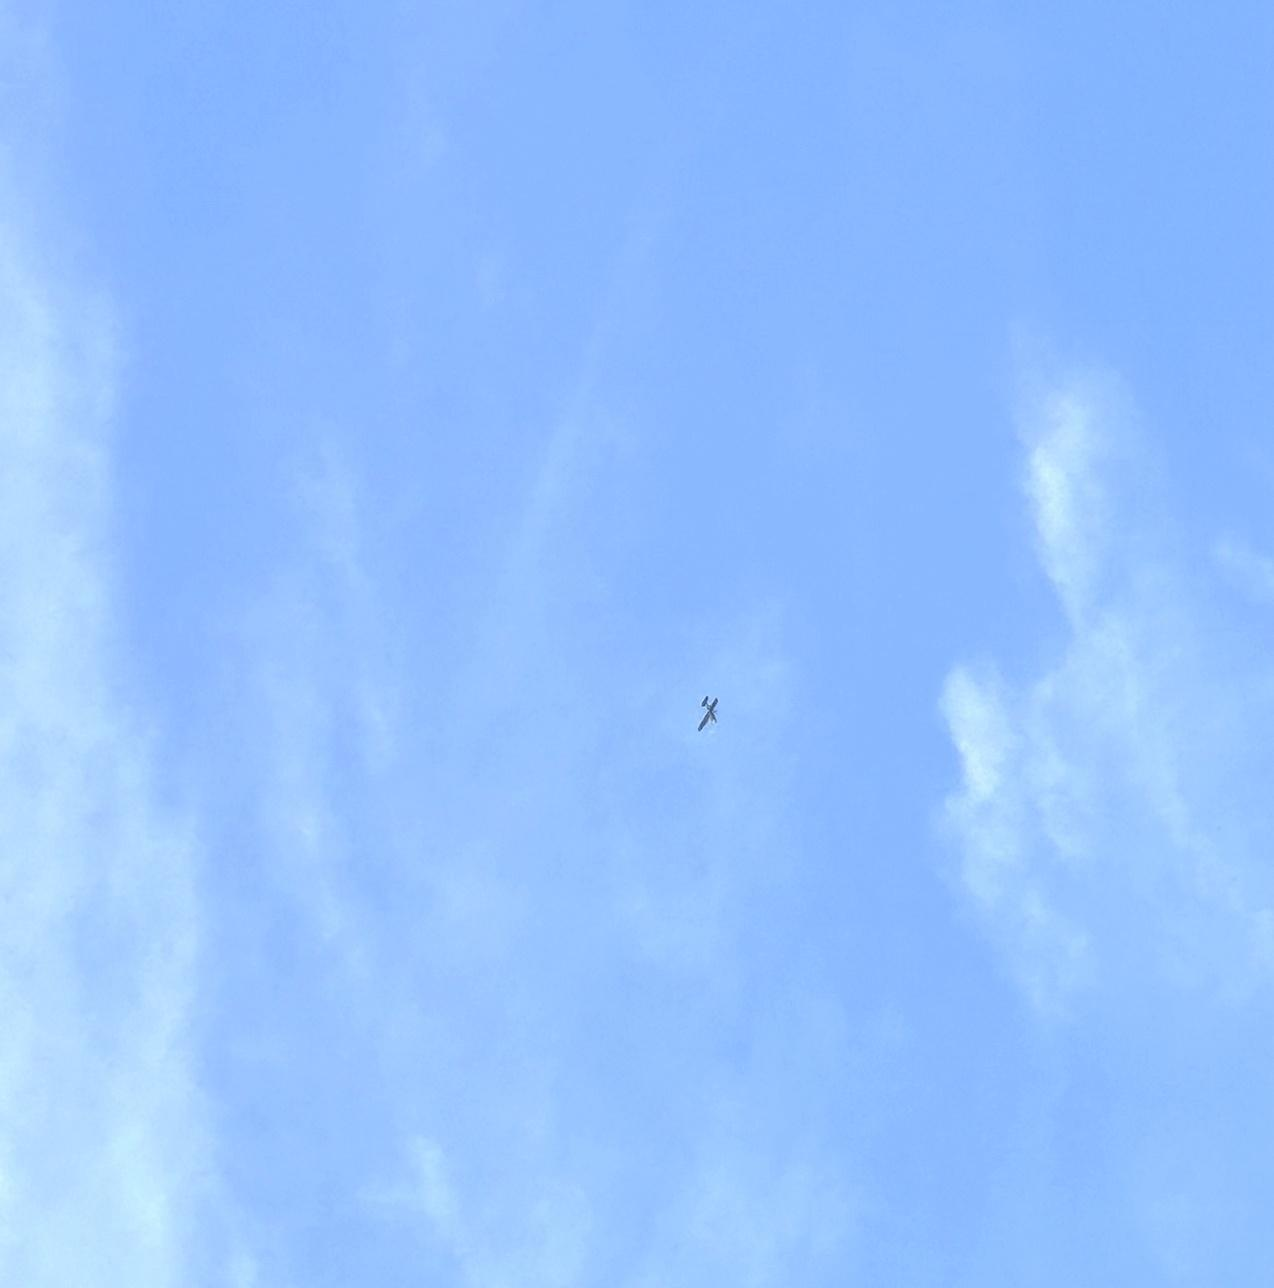Plane: (677, 675, 738, 752)
